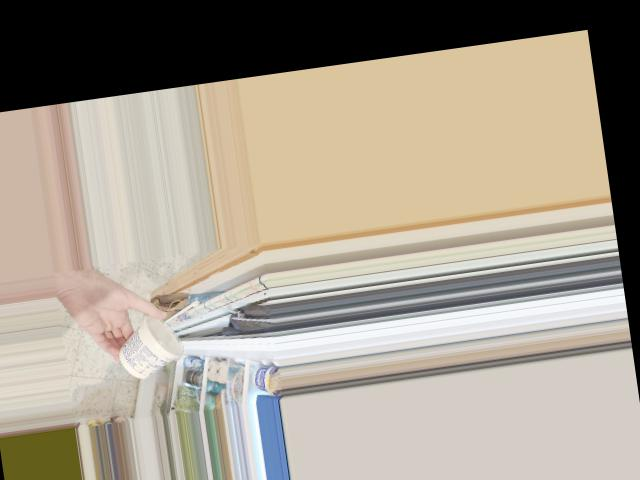cotage: (116, 315, 186, 379)
